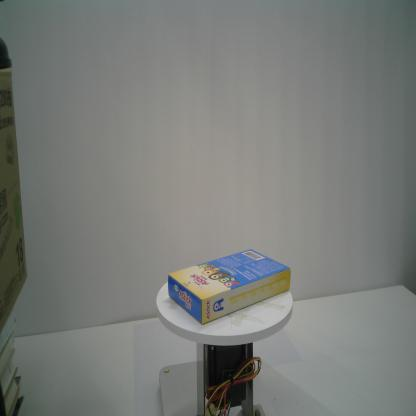Dessert: (168, 248, 292, 327)
